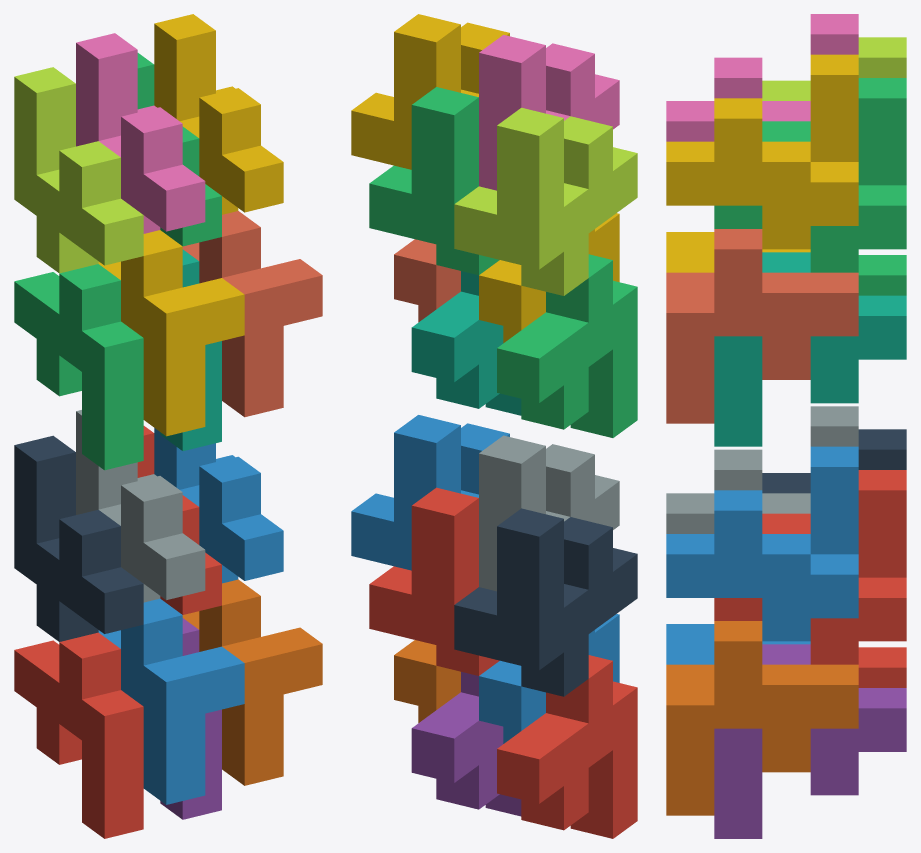
The model's file is tiling.obj.
The picture shows the model from 3 angles, left to right: view 1: azimuth 30°, elevation 25°; view 2: azimuth 150°, elevation 25°; view 3: azimuth 270°, elevation 25°; orthographic projection. The views are drawn at different scales.
Visible parts, largest first — view 1: copy_1_domain_1, copy_1_domain_3, copy_2_domain_3, copy_2_domain_1, copy_1_domain_2, copy_1_domain_4, copy_2_domain_4, copy_2_domain_8, copy_1_domain_8, copy_1_domain_6, copy_2_domain_2, copy_2_domain_6 (+4 smaller); view 2: copy_2_domain_1, copy_2_domain_3, copy_1_domain_1, copy_1_domain_3, copy_2_domain_7, copy_2_domain_5, copy_2_domain_4, copy_2_domain_2, copy_2_domain_6, copy_2_domain_8, copy_1_domain_5, copy_1_domain_7 (+4 smaller); view 3: copy_2_domain_8, copy_2_domain_6, copy_1_domain_6, copy_1_domain_8, copy_1_domain_7, copy_2_domain_7, copy_1_domain_5, copy_2_domain_5, copy_2_domain_2, copy_2_domain_4, copy_2_domain_1, copy_2_domain_3 (+4 smaller).
Part boxes in pixels (x1,y1,x2,y2): copy_1_domain_1: [14, 632, 143, 838]; copy_1_domain_3: [14, 264, 143, 470]; copy_2_domain_3: [14, 67, 143, 273]; copy_2_domain_1: [14, 435, 143, 641]; copy_1_domain_2: [98, 598, 244, 804]; copy_1_domain_4: [98, 230, 244, 436]; copy_2_domain_4: [76, 33, 205, 233]; copy_2_domain_8: [154, 14, 283, 214]; copy_1_domain_8: [182, 211, 322, 417]; copy_1_domain_6: [182, 579, 322, 785]; copy_2_domain_2: [76, 410, 205, 602]; copy_2_domain_6: [154, 428, 283, 583]; copy_2_domain_1: [454, 508, 637, 696]; copy_2_domain_3: [454, 107, 637, 295]; copy_1_domain_1: [497, 655, 637, 838]; copy_1_domain_3: [497, 254, 637, 437]; copy_2_domain_7: [369, 87, 499, 275]; copy_2_domain_5: [369, 487, 499, 675]; copy_2_domain_4: [479, 35, 619, 190]; copy_2_domain_2: [479, 435, 619, 591]; copy_2_domain_6: [351, 415, 509, 570]; copy_2_domain_8: [351, 14, 509, 169]; copy_1_domain_5: [411, 672, 521, 816]; copy_1_domain_7: [411, 271, 521, 415]; copy_2_domain_8: [666, 54, 858, 249]; copy_2_domain_6: [666, 446, 858, 641]; copy_1_domain_6: [666, 621, 858, 815]; copy_1_domain_8: [666, 229, 858, 423]; copy_1_domain_7: [714, 252, 906, 446]; copy_2_domain_7: [714, 78, 906, 272]; copy_1_domain_5: [714, 644, 906, 838]; copy_2_domain_5: [714, 470, 906, 664]; copy_2_domain_2: [666, 406, 858, 533]; copy_2_domain_4: [666, 14, 858, 141]; copy_2_domain_1: [762, 429, 906, 493]; copy_2_domain_3: [762, 37, 906, 100].
Size of the model in its own units: 5 by 18 by 5.
